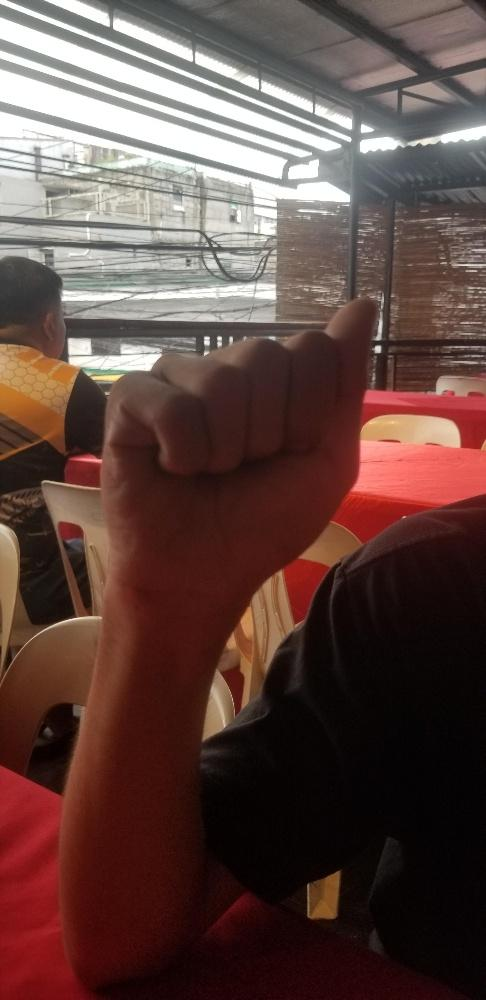a: (97, 289, 381, 604)
